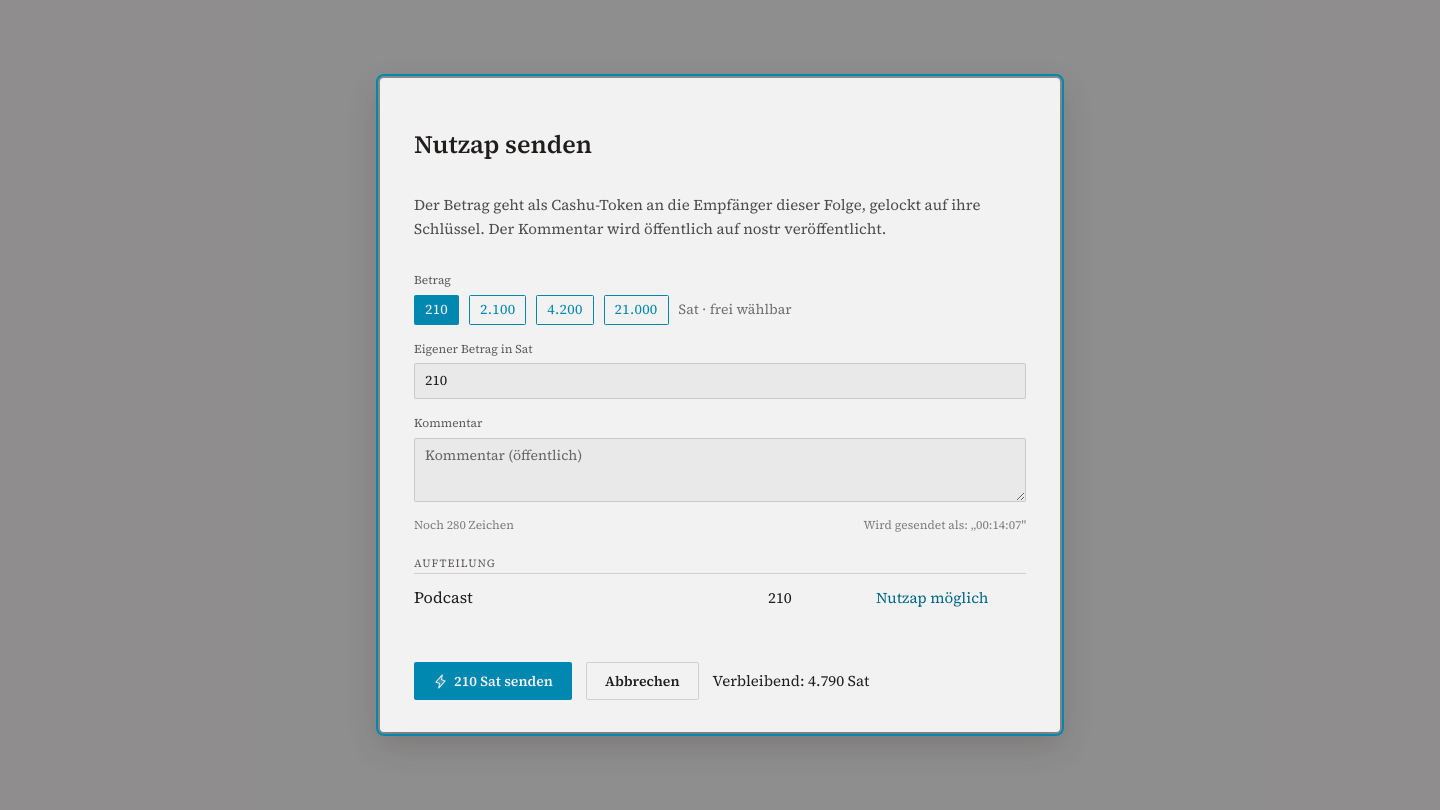
Test case: US-06-AC-2: zu wenig Guthaben › deaktiviert den Sendeknopf bei Betrag 0
Replace the text in the number field named "boost-amount" with "0". click: (720, 381)
box: [414, 363, 1026, 399]
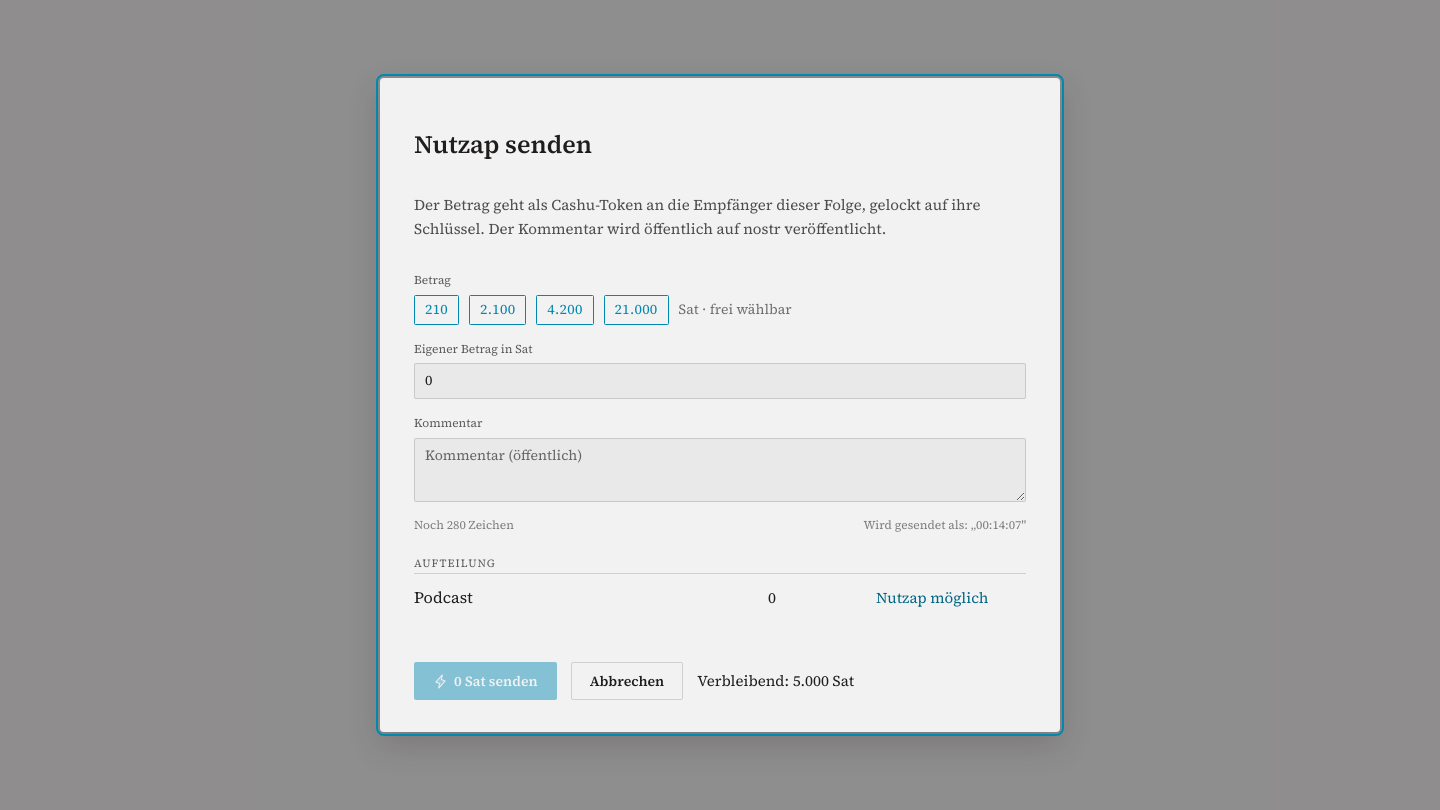
Check: the button "0 Sat senden" is disabled, box [414, 662, 557, 700]
